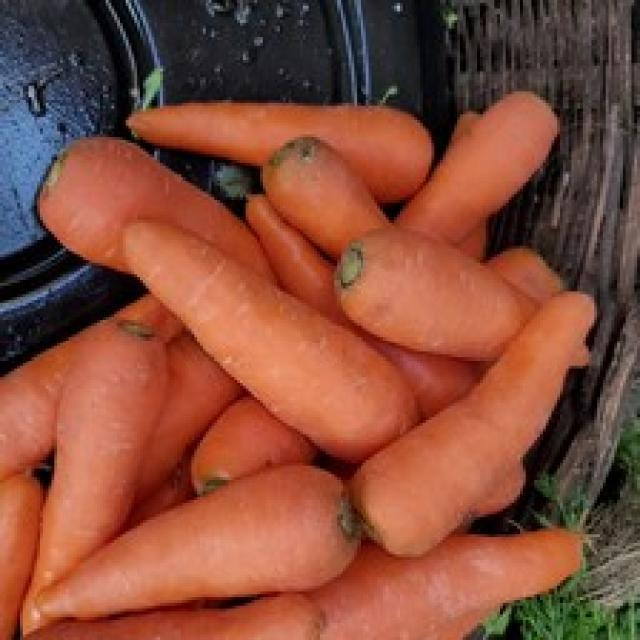Carrot: (123, 219, 415, 461), (352, 292, 595, 555), (42, 465, 356, 618), (25, 317, 168, 630), (127, 101, 432, 202), (311, 530, 581, 639), (336, 224, 538, 361)
